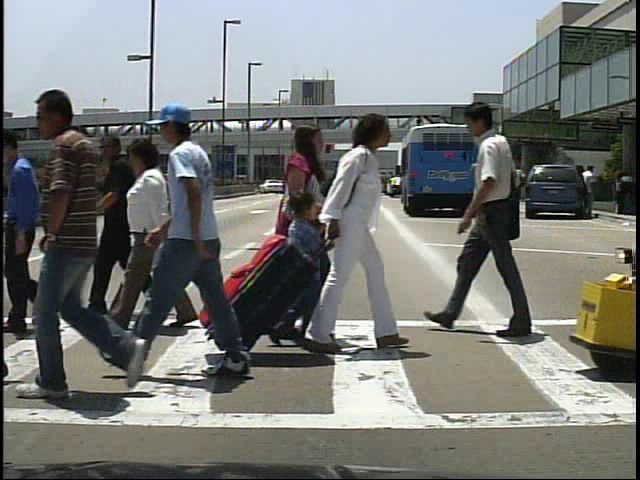person: (6, 84, 176, 405), (431, 103, 562, 348), (150, 105, 258, 388), (315, 109, 403, 360), (272, 119, 342, 359), (90, 129, 158, 323), (117, 136, 181, 330), (9, 122, 56, 341), (270, 186, 323, 318), (582, 165, 602, 218), (505, 165, 525, 215), (498, 166, 516, 219)
